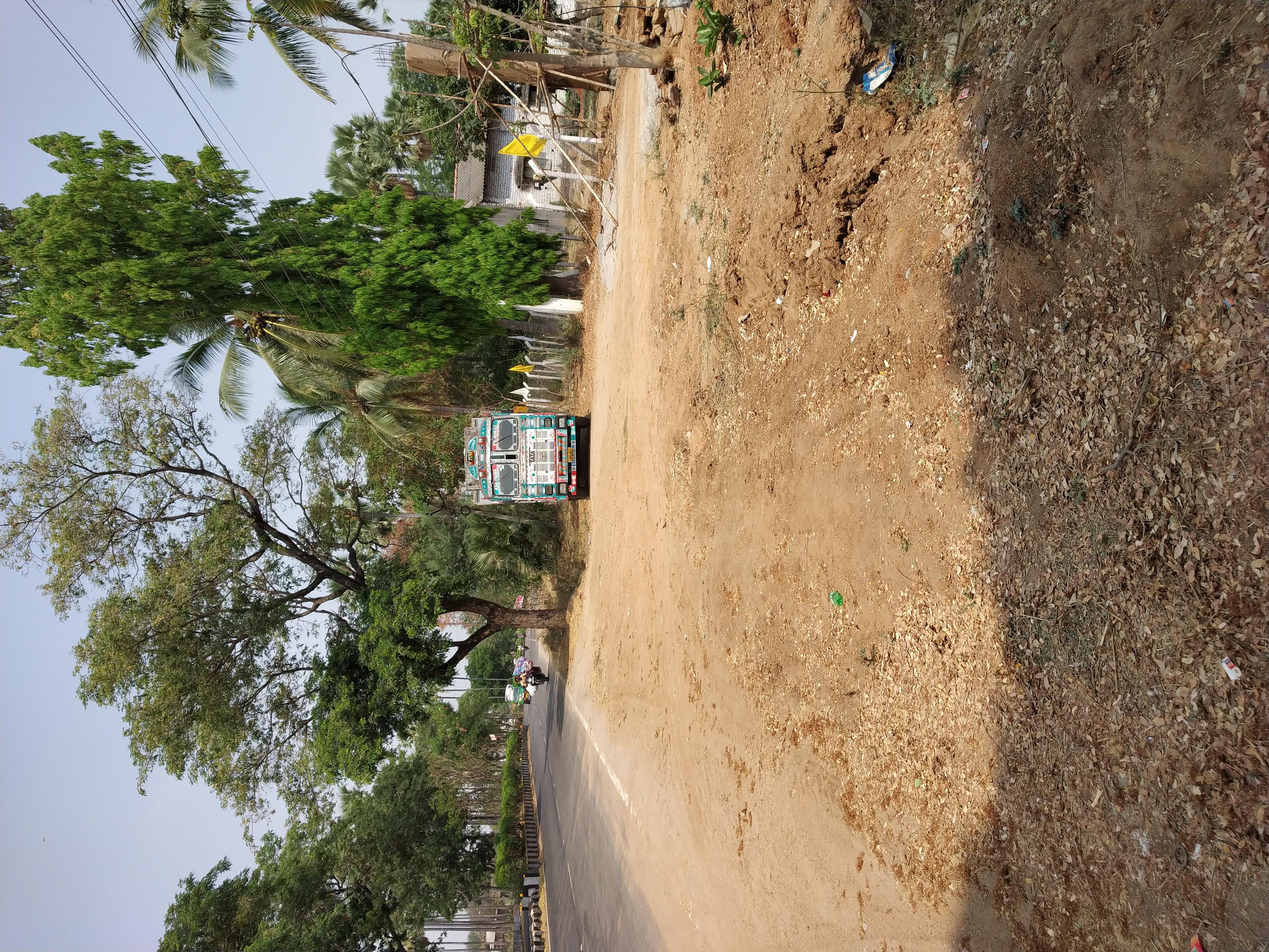license plate: (653, 426, 672, 431)
